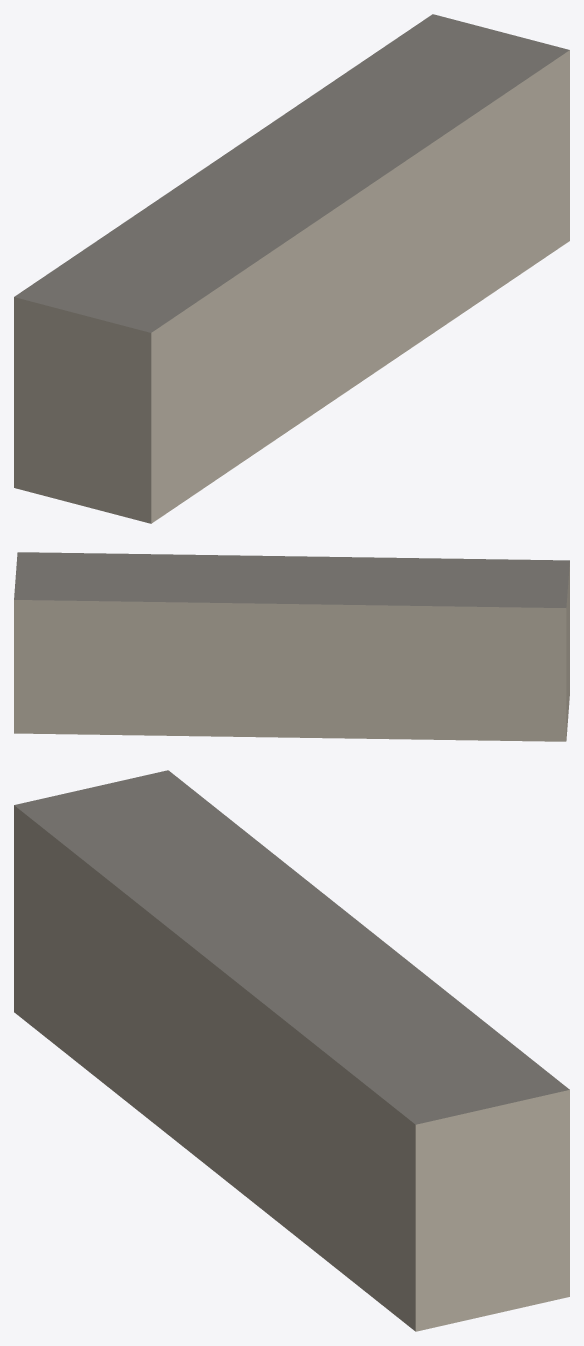
3 renders of one model, top to bottom at view 1: azimuth 30°, elevation 25°; view 2: azimuth 150°, elevation 25°; view 3: azimuth 270°, elevation 25°, orthographic. The views are drawn at different scales.
Parts seen in each view (by area): view 1: HP-w1287260181; view 2: HP-w1287260181; view 3: HP-w1287260181.
Boxes of the visible parts, left/top/right/bottom form: HP-w1287260181: left=14, top=14, right=569, bottom=523; HP-w1287260181: left=14, top=552, right=569, bottom=741; HP-w1287260181: left=14, top=770, right=569, bottom=1331.
Bounding box in the file's own units: 66.11 × 18 × 43.81.
